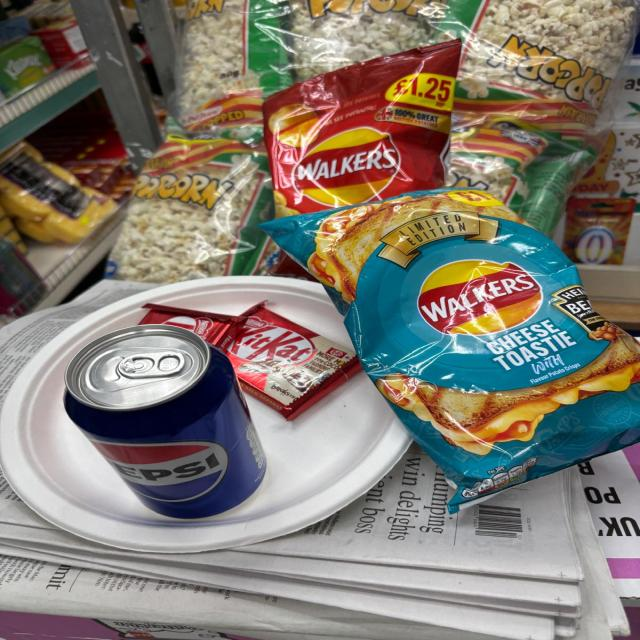crisp: (269, 198, 640, 522), (253, 62, 464, 236)
kitkat: (227, 290, 357, 416), (130, 302, 234, 360)
pepsi: (59, 332, 261, 542)
